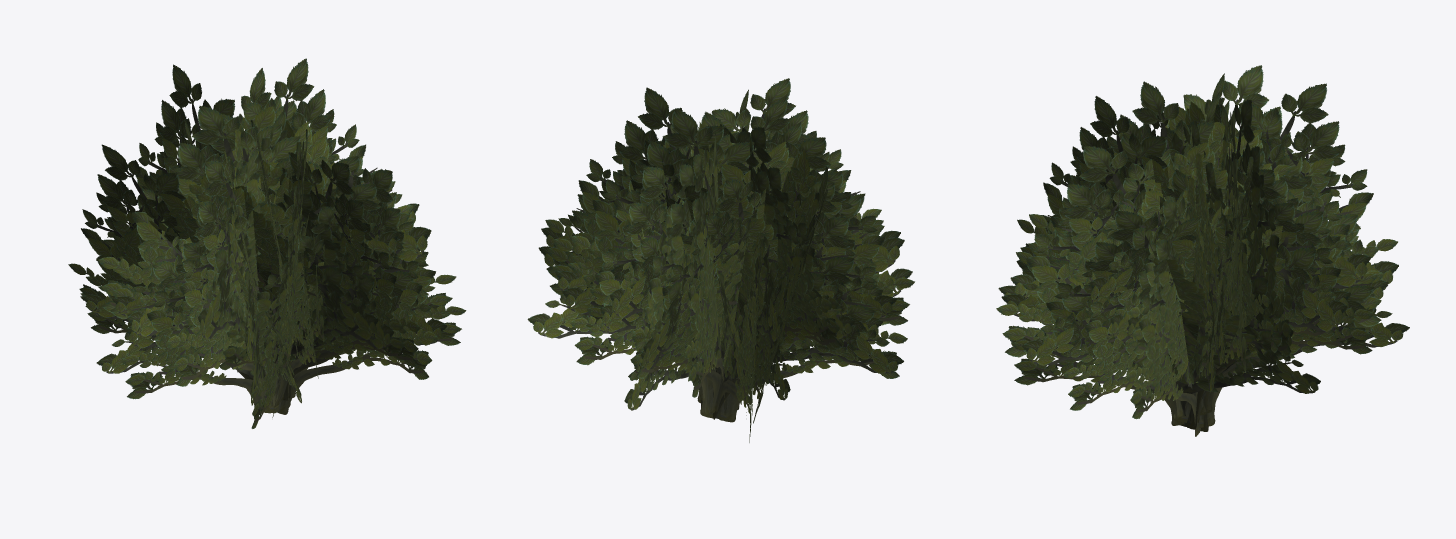
File: shared_bush_02.fbx
3 views of the same model, side by side, from view 1: azimuth 30°, elevation 25°; view 2: azimuth 150°, elevation 25°; view 3: azimuth 270°, elevation 25° (orthographic). The views are drawn at different scales.
Visible parts, largest first — view 1: shared_bush_02; view 2: shared_bush_02; view 3: shared_bush_02.
Part boxes in pixels (x1=…): shared_bush_02: x1=68, y1=58, x2=466, y2=428; shared_bush_02: x1=527, y1=78, x2=914, y2=442; shared_bush_02: x1=996, y1=65, x2=1409, y2=436.
Bounding box in the file's own units: 1.53 × 1.47 × 1.53.
